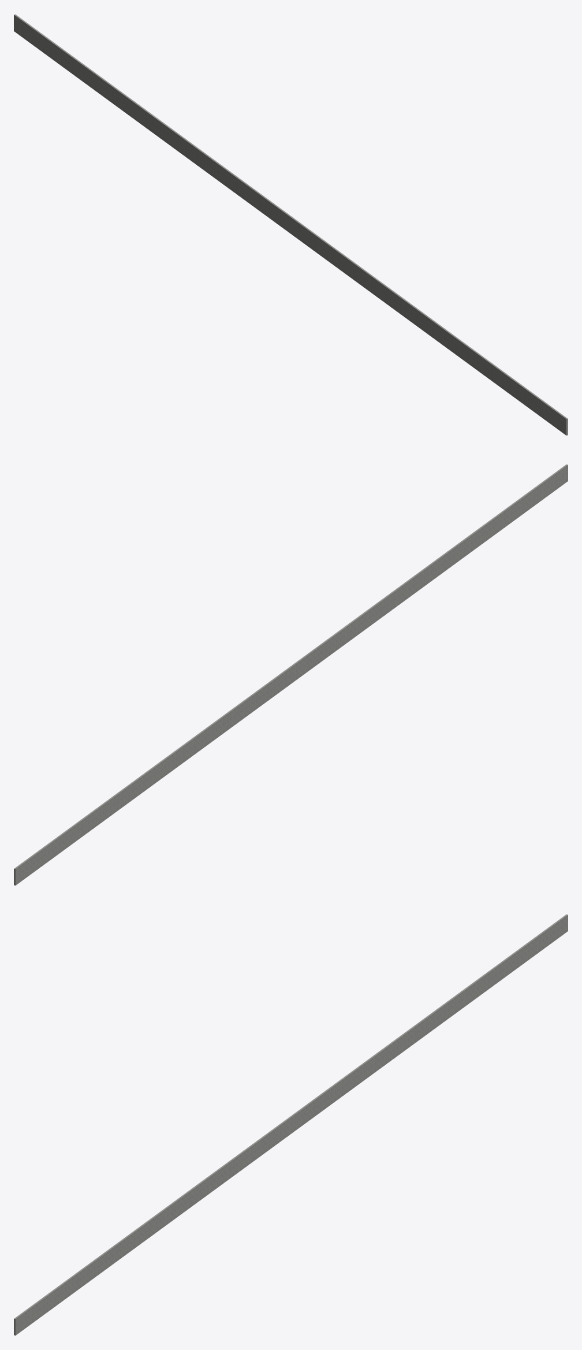
The model's file is Wall.fbx.
3 views of the same model, one above another, from view 1: azimuth 30°, elevation 25°; view 2: azimuth 150°, elevation 25°; view 3: azimuth 330°, elevation 25° (orthographic).
Parts seen in each view (by area): view 1: ID623; view 2: ID623; view 3: ID623.
Part boxes in pixels (bbox=[...]): ID623: bbox=[14, 14, 567, 435]; ID623: bbox=[14, 464, 567, 885]; ID623: bbox=[14, 914, 567, 1335].
Bounding box in the file's own units: 12 × 120 × 7272.
1 material, 1 textured.
